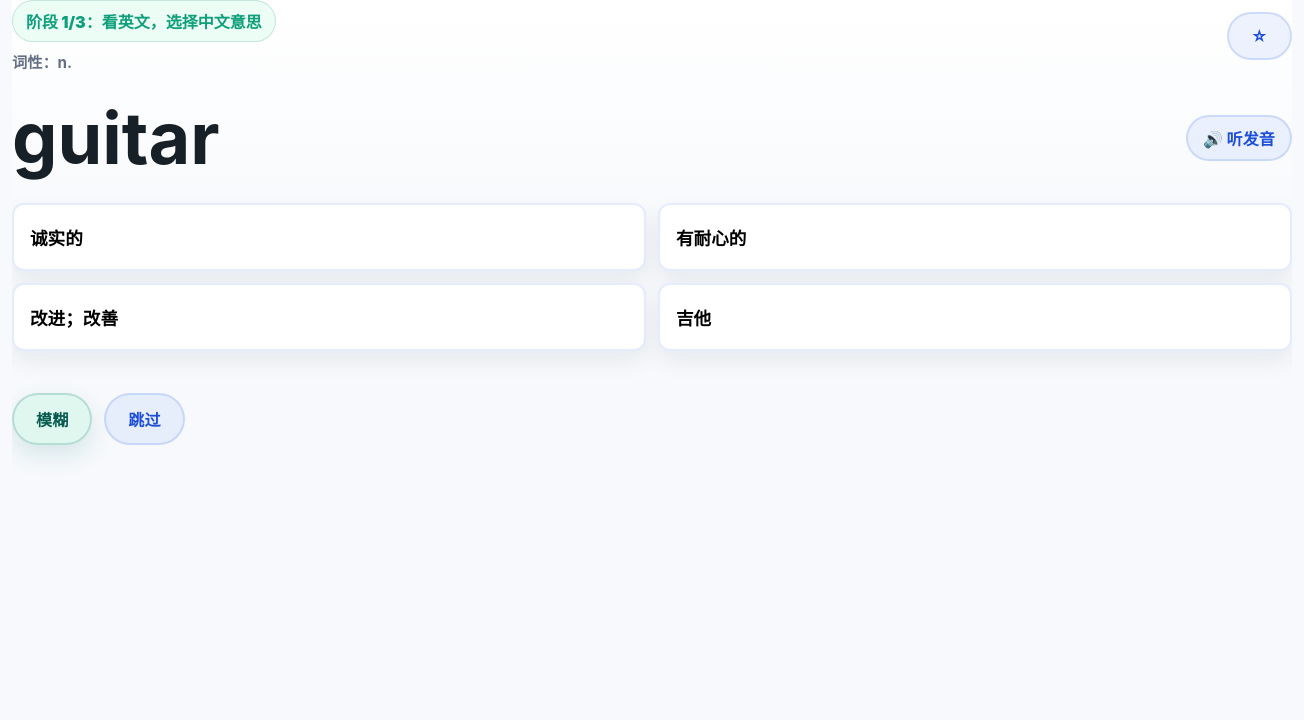
QuestionPanel › auto-advances after correct choice feedback
Click the button "吉他".
click(694, 318)  # box [658,283,1292,351]
Wait 900 ms
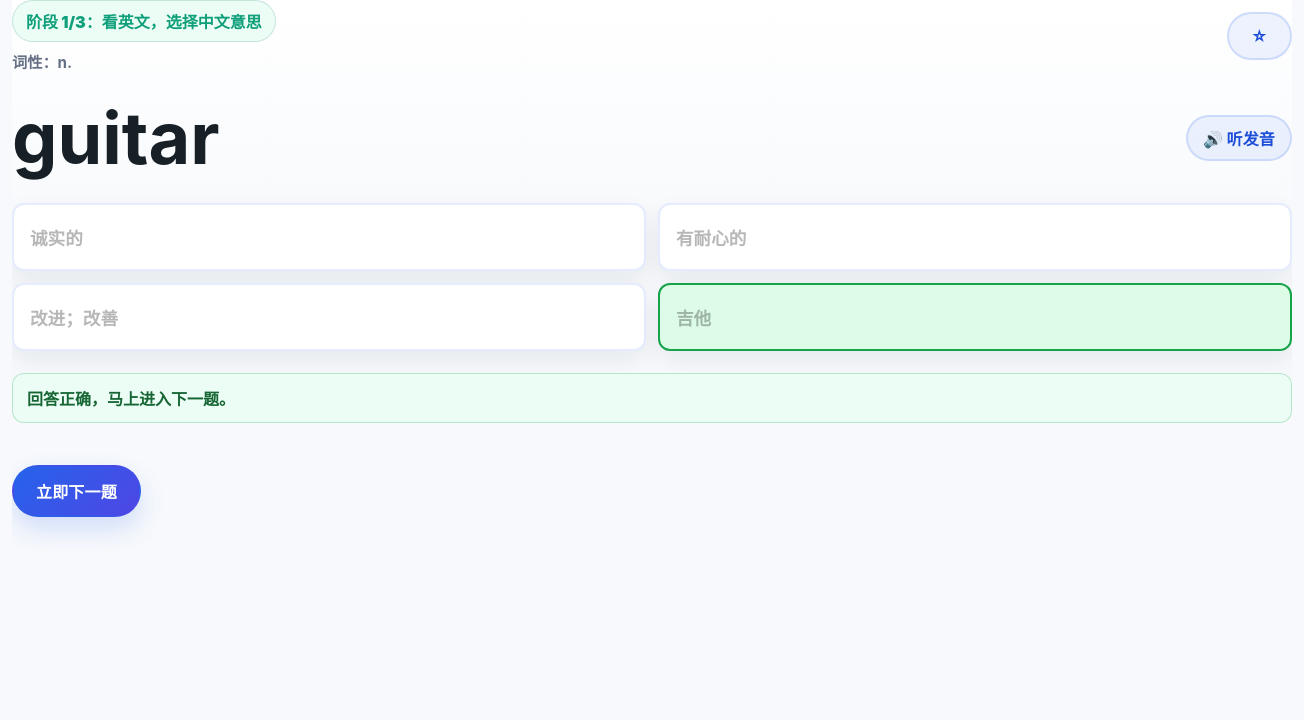
Result: the text "回答正确，马上进入下一题。" is shown at [12,373,1292,423]
